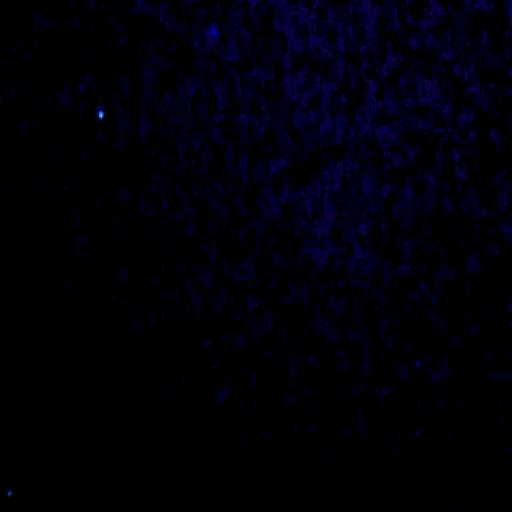object-detection-project: (98, 111, 103, 119)
